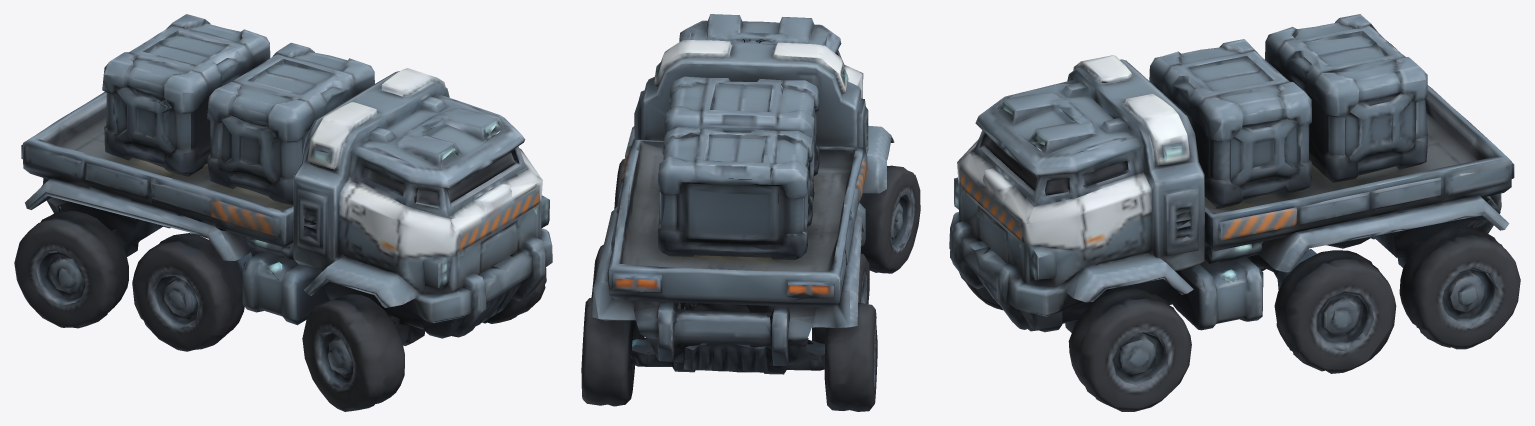
The picture shows the model from 3 angles, left to right: view 1: azimuth 30°, elevation 25°; view 2: azimuth 150°, elevation 25°; view 3: azimuth 270°, elevation 25°; orthographic projection. The views are drawn at different scales.
Visible parts, largest first — view 1: repaired; view 2: repaired; view 3: repaired.
Part boxes in pixels (bbox=[...]): repaired: bbox=[14, 14, 552, 411]; repaired: bbox=[581, 14, 920, 411]; repaired: bbox=[949, 14, 1520, 411].
Size of the model in its own units: 0.8283 by 0.501 by 0.9997.
1 material, 1 textured.
